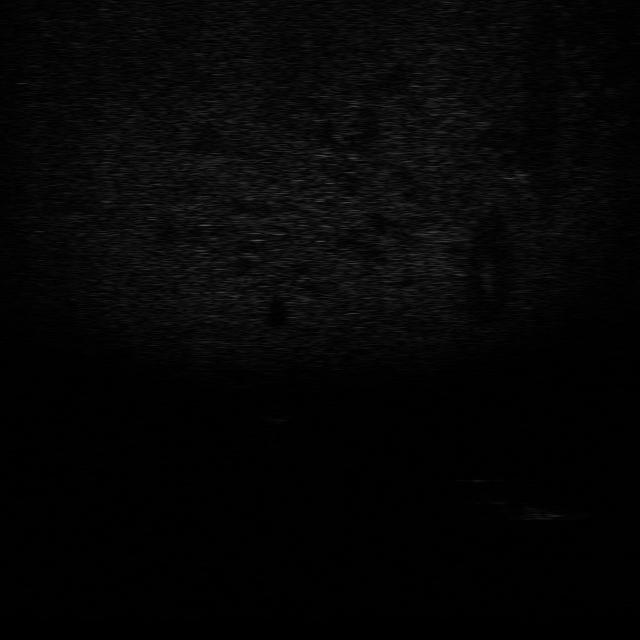ball: (260, 406, 291, 426)
metal bucket: (498, 498, 572, 524)
tyre: (463, 473, 512, 507)
